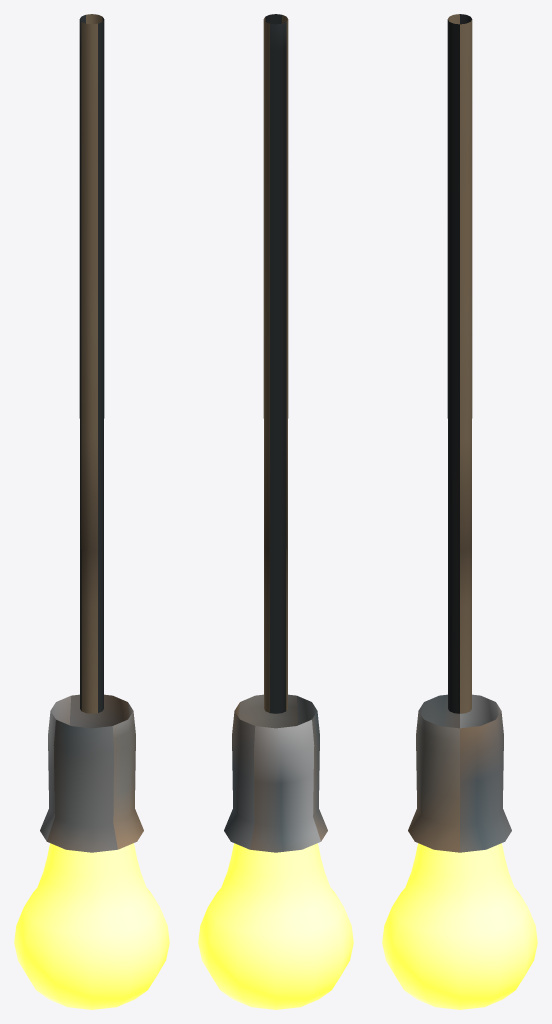
Rendered from lightbulb.glb.
3 views of the same model, side by side, from view 1: azimuth 30°, elevation 25°; view 2: azimuth 150°, elevation 25°; view 3: azimuth 270°, elevation 25° (orthographic).
Visible parts, largest first — view 1: light; view 2: light; view 3: light.
Part boxes in pixels (<box>): light: <box>14,14,169,1009</box>; light: <box>198,14,353,1009</box>; light: <box>382,14,537,1009</box>.
Size of the model in its own units: 0.0623 by 0.4316 by 0.0623.
2 materials, 1 textured.
